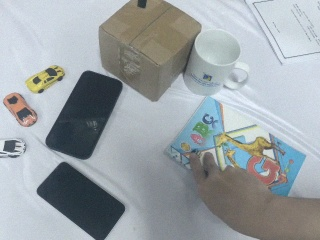book: (160, 93, 309, 239)
box: (97, 1, 202, 102)
cup: (183, 28, 251, 96)
phone: (34, 159, 127, 240), (44, 69, 125, 161)
toy_car: (3, 91, 39, 128), (25, 65, 65, 94), (1, 138, 27, 159)
